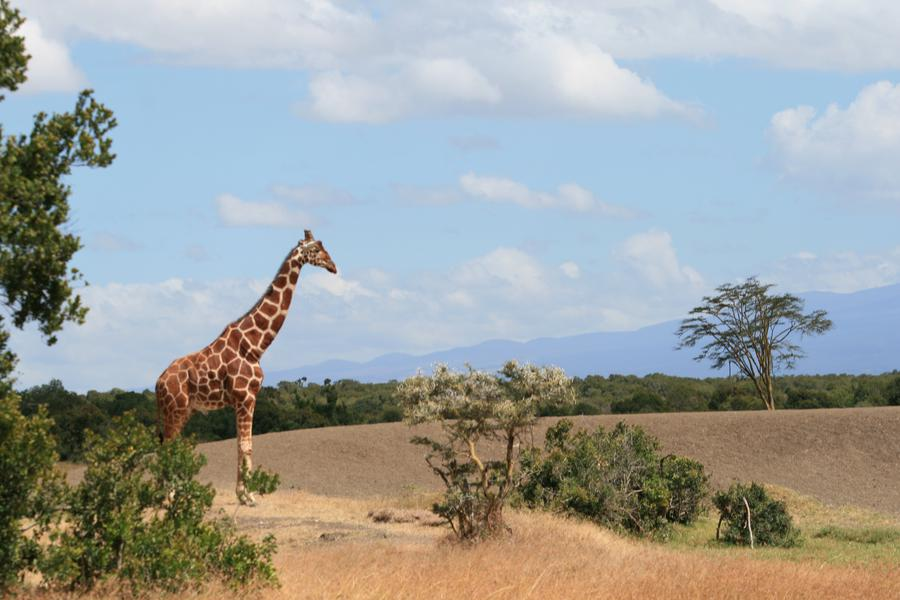giraffe: (153, 217, 342, 497)
